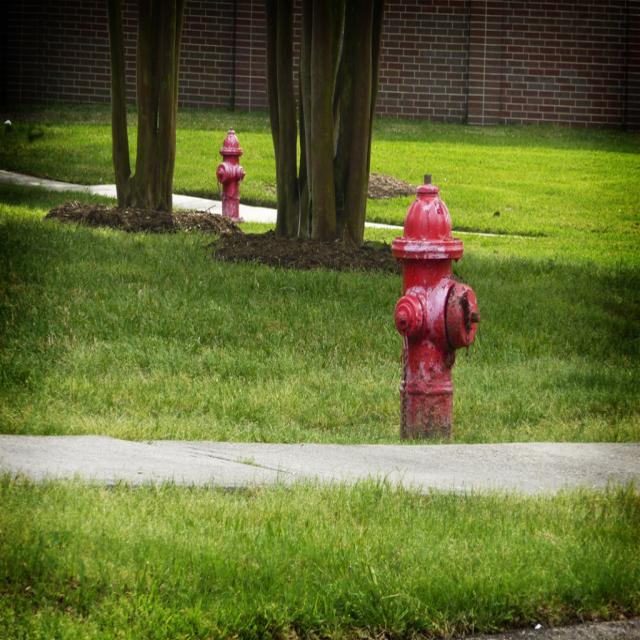fire_hydrant: (387, 175, 479, 442), (218, 130, 245, 222)
